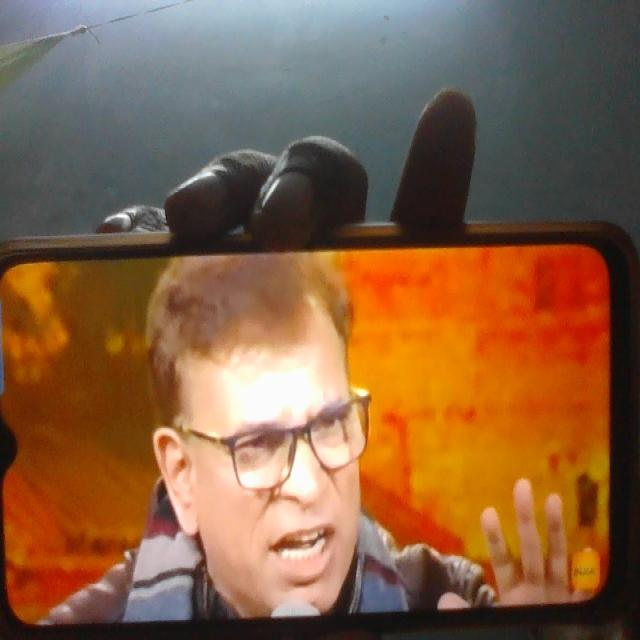fake: (156, 229, 375, 640)
